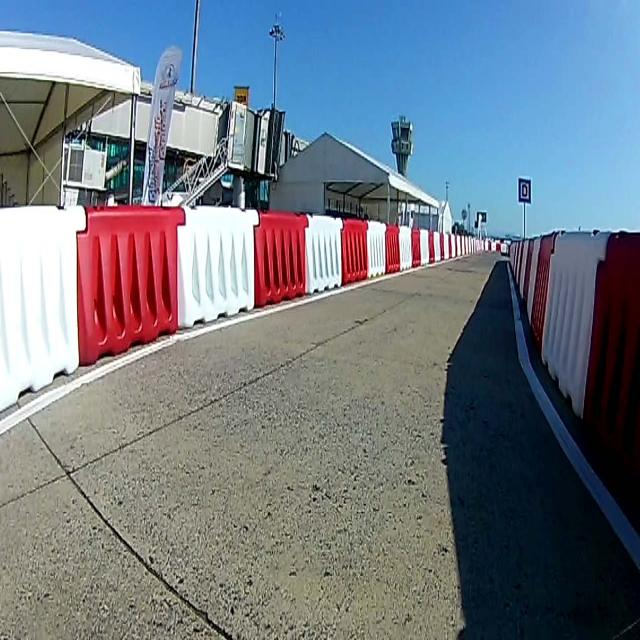durak: (520, 177, 530, 206)
